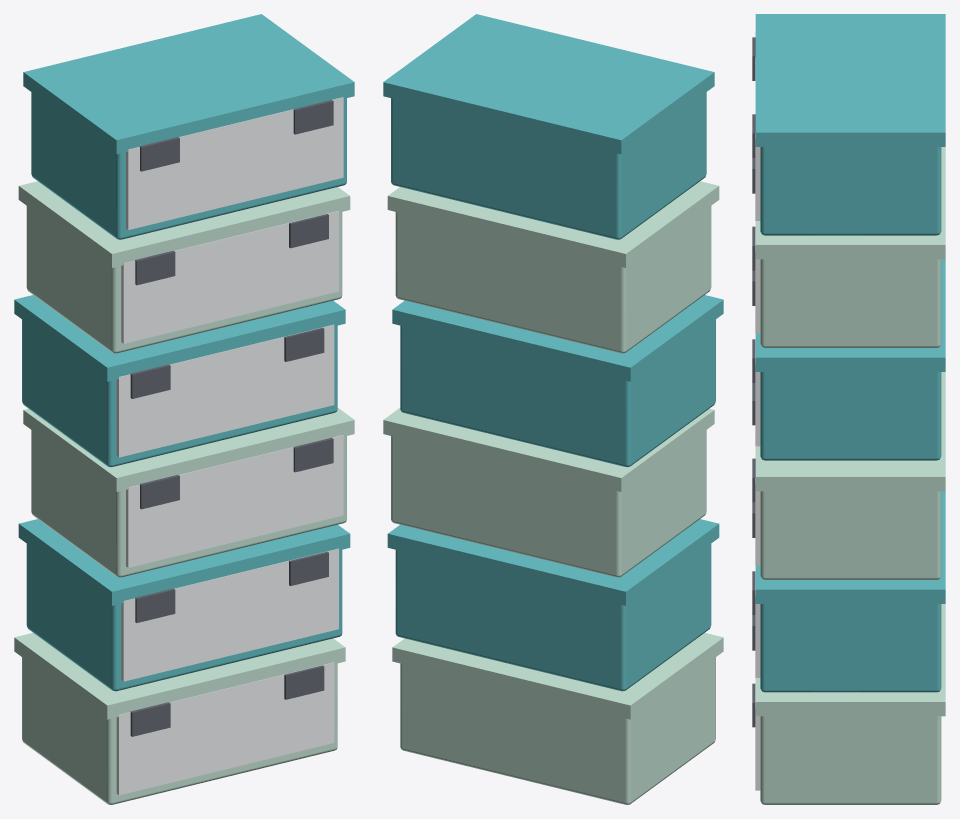
Rendered from pharmacy-and-high-street-chemist-delivery-tote-stack-92460c06__37547.glb.
3 views of the same model, side by side, from view 1: azimuth 30°, elevation 25°; view 2: azimuth 150°, elevation 25°; view 3: azimuth 270°, elevation 25° (orthographic).
Visible parts, largest first — view 1: delivery-tote-stack; view 2: delivery-tote-stack; view 3: delivery-tote-stack.
Boxes of the visible parts, bbox=[...] form: delivery-tote-stack: bbox=[14, 14, 354, 804]; delivery-tote-stack: bbox=[383, 14, 723, 804]; delivery-tote-stack: bbox=[752, 14, 945, 804].
Bounding box in the file's own units: 0.6439 × 1.66 × 0.428.
